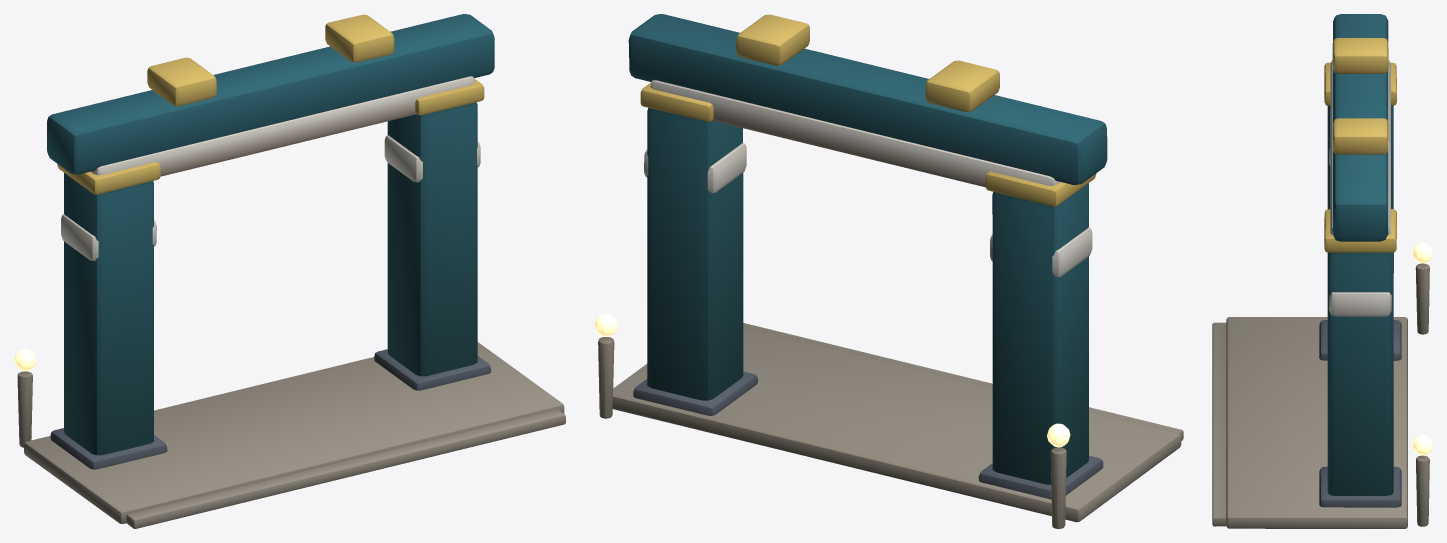
The picture shows the model from 3 angles, left to right: view 1: azimuth 30°, elevation 25°; view 2: azimuth 150°, elevation 25°; view 3: azimuth 270°, elevation 25°; orthographic projection. The views are drawn at different scales.
Visible parts, largest first — view 1: gate_4bd07d9a; view 2: gate_4bd07d9a; view 3: gate_4bd07d9a.
Boxes of the visible parts, x1,y1,x2,y2 form: gate_4bd07d9a: (14,14,565,528); gate_4bd07d9a: (594,14,1183,528); gate_4bd07d9a: (1212,14,1432,528).
Bounding box in the file's own units: 5.51 × 4.38 × 2.55.
